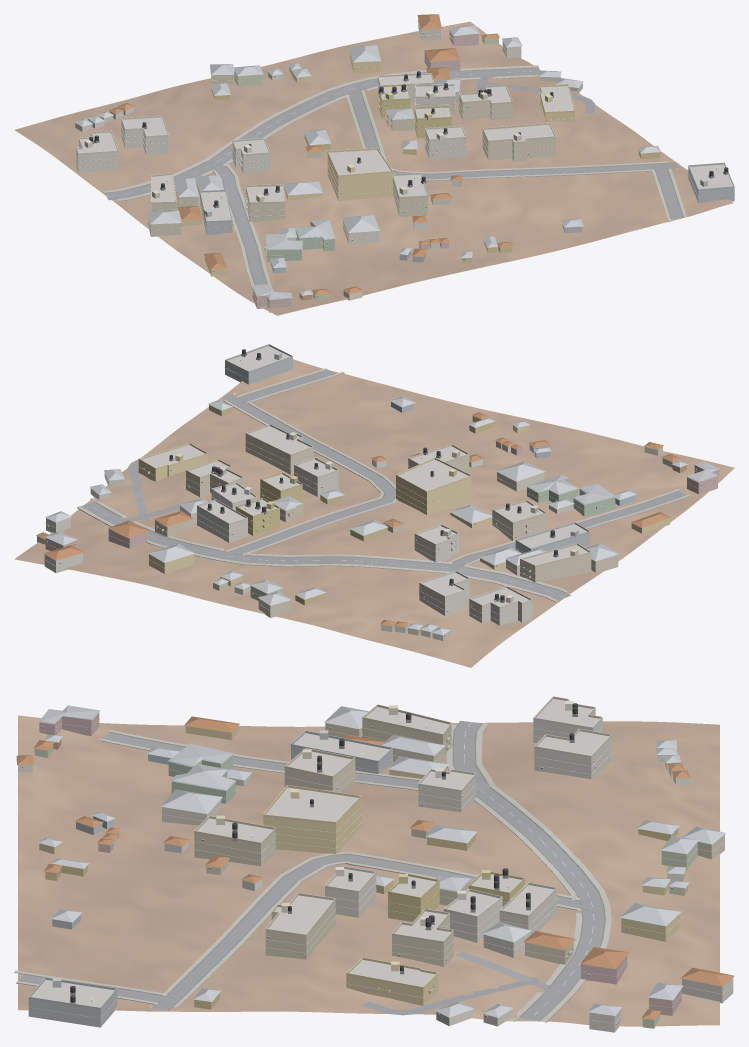
3 renders of one model, top to bottom at view 1: azimuth 30°, elevation 25°; view 2: azimuth 150°, elevation 25°; view 3: azimuth 270°, elevation 25°, orthographic. The views are drawn at different scales.
Parts seen in each view (by area): view 1: Terrain-col, Buildings-col, Roads-col, Details, Sidewalks-col; view 2: Terrain-col, Buildings-col, Roads-col, Details, Sidewalks-col; view 3: Terrain-col, Buildings-col, Roads-col, Details, Sidewalks-col.
Part boxes in pixels (x1,y1,x2,y2): Terrain-col: [14, 21, 733, 315]; Buildings-col: [74, 14, 734, 312]; Roads-col: [104, 67, 683, 285]; Details: [76, 20, 734, 306]; Sidewalks-col: [103, 65, 686, 289]; Terrain-col: [14, 359, 734, 667]; Buildings-col: [36, 346, 719, 640]; Roads-col: [81, 369, 686, 600]; Details: [44, 344, 719, 636]; Sidewalks-col: [77, 368, 690, 601]; Terrain-col: [18, 715, 719, 1026]; Buildings-col: [16, 699, 734, 1032]; Roads-col: [18, 720, 605, 1021]; Details: [21, 696, 733, 1024]; Sidewalks-col: [14, 723, 611, 1022].
Bounding box in the file's own units: 272 × 22.65 × 263.
